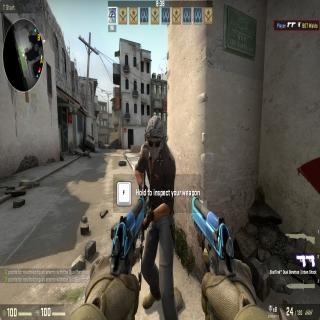T-Body: (132, 112, 182, 320)
T-Head: (144, 113, 165, 161)
